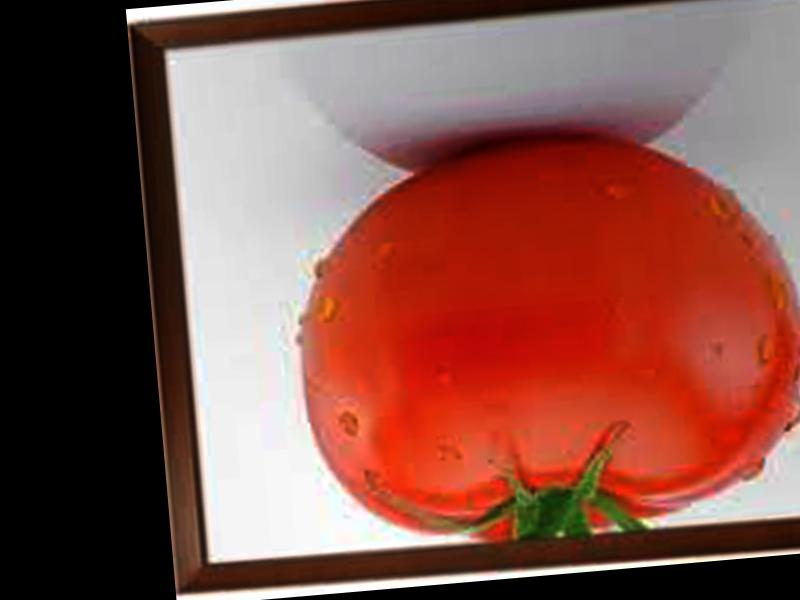Tomato: (285, 115, 800, 560)
